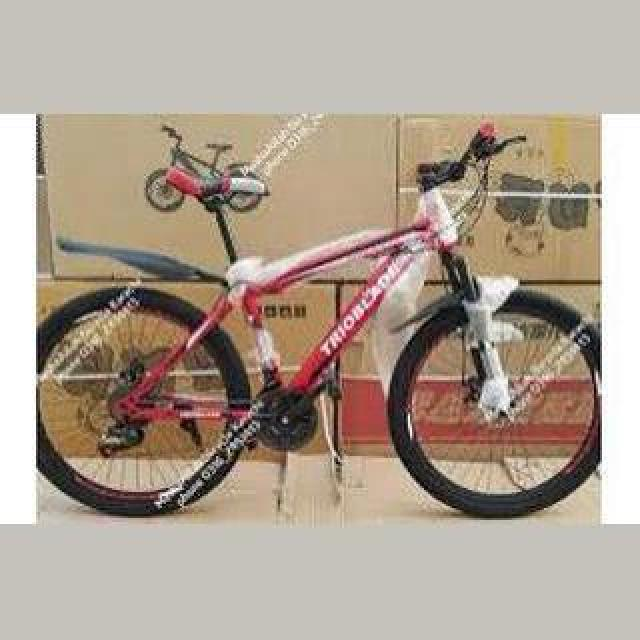Person: (38, 121, 602, 519)
